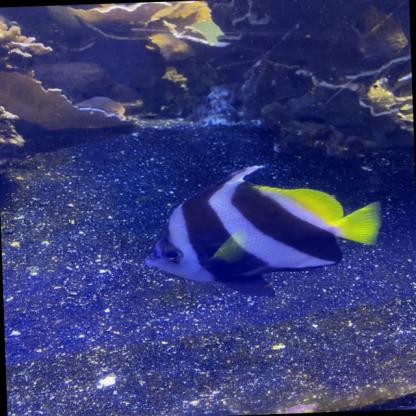fish: (141, 161, 382, 300)
